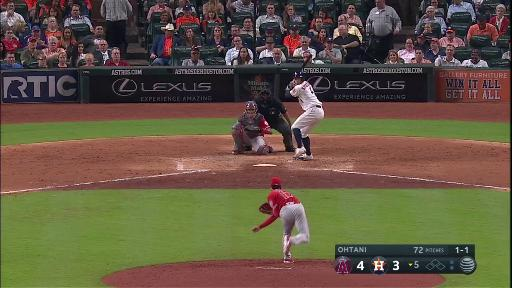pitcher: (251, 176, 314, 263)
